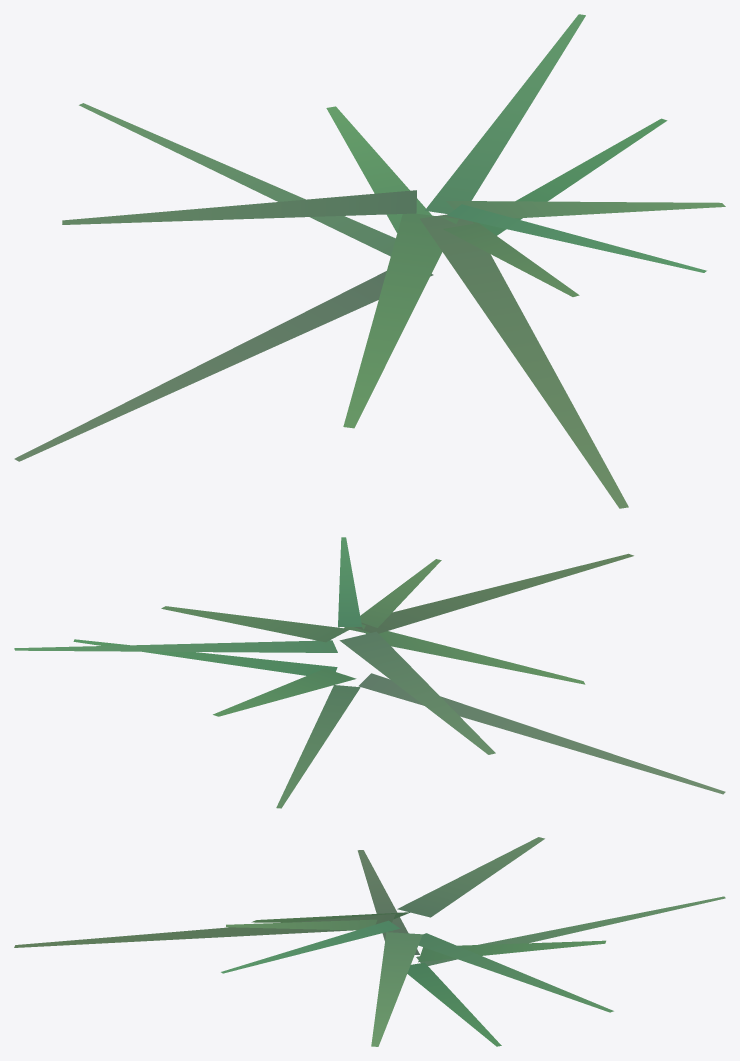
Rendered from fern.glb.
3 renders of one model, top to bottom at view 1: azimuth 30°, elevation 25°; view 2: azimuth 150°, elevation 25°; view 3: azimuth 270°, elevation 25°, orthographic. The views are drawn at different scales.
Parts seen in each view (by area): view 1: fern; view 2: fern; view 3: fern.
Part boxes in pixels (x1,y1,x2,y2): fern: (14, 14, 725, 508); fern: (14, 537, 725, 808); fern: (14, 837, 725, 1046).
Size of the model in its own units: 3.46 by 0.5955 by 4.02.
